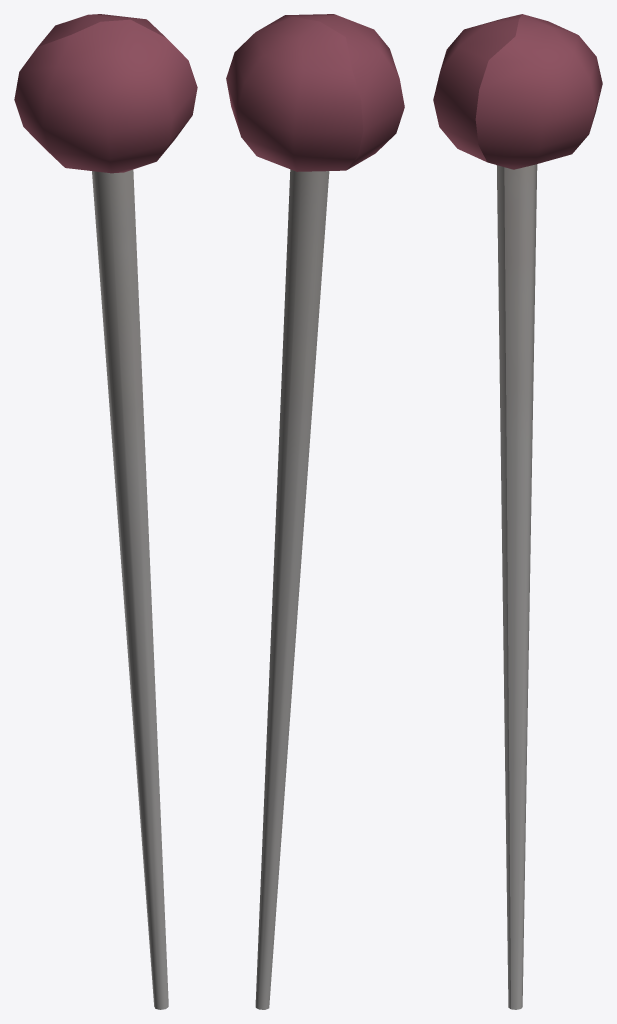
Rendered from SM_Farm_Pin_05.fbx.
3 views of the same model, side by side, from view 1: azimuth 30°, elevation 25°; view 2: azimuth 150°, elevation 25°; view 3: azimuth 270°, elevation 25° (orthographic). The views are drawn at different scales.
Visible parts, largest first — view 1: SM_Farm_Pin_05_LOD0; view 2: SM_Farm_Pin_05_LOD0; view 3: SM_Farm_Pin_05_LOD0.
Boxes of the visible parts, x1,y1,x2,y2 form: SM_Farm_Pin_05_LOD0: (14,14,197,1009); SM_Farm_Pin_05_LOD0: (226,14,404,1009); SM_Farm_Pin_05_LOD0: (433,14,602,1009).
Bounding box in the file's own units: 2.3 × 14.41 × 2.31.
